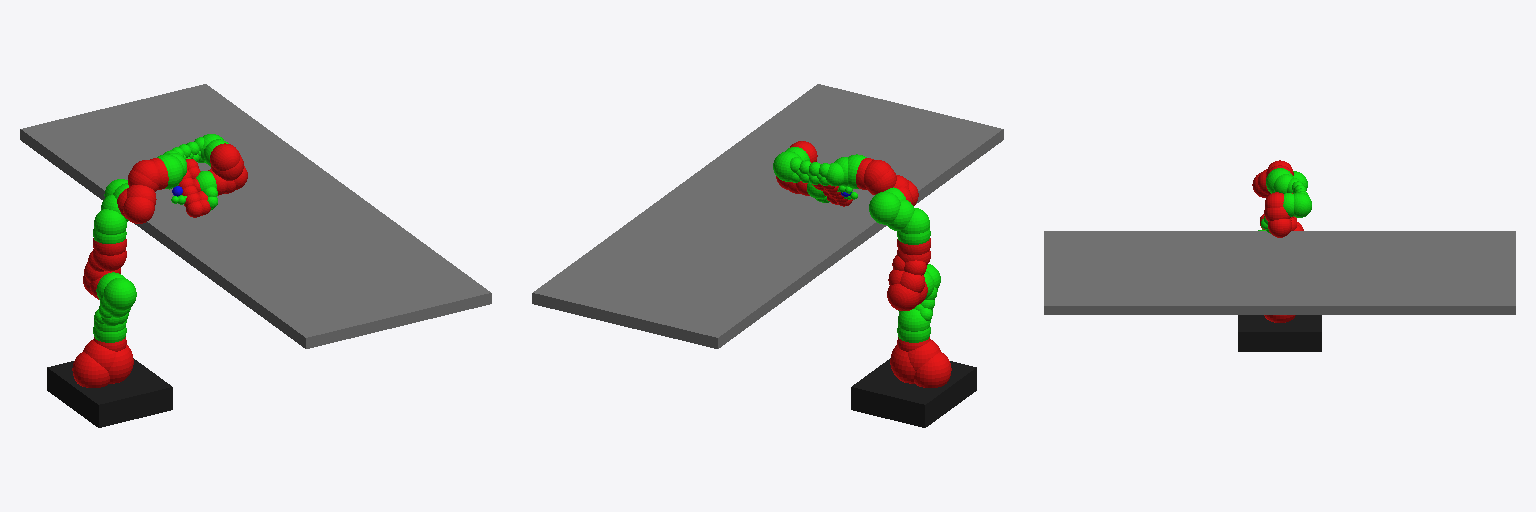
robot.urdf — panda:
<?xml version="1.0" encoding="utf-8"?>
<!-- =================================================================================== -->
<!-- |    This document was autogenerated by xacro from table_panda_arm_hand_fingers_fixed.urdf.xacro | -->
<!-- |    EDITING THIS FILE BY HAND IS NOT RECOMMENDED                                 | -->
<!-- =================================================================================== -->
<robot name="panda">
  <link name="table">
    <visual>
      <!-- <origin xyz="${tablex/2} ${tabley/2} ${-tablez/2}" rpy="0 0 0"/> -->
      <!-- <origin xyz="0.8 0.0 0.67" rpy="0 0 0"/> -->
      <origin rpy="0 0 0" xyz="0.6 0.0 0.47"/>
      <geometry>
        <box size="0.762 2.032 0.04445"/>
      </geometry>
      <material name="grey">
        <color rgba="0.5 0.5 0.5 1.0"/>
      </material>
    </visual>
    <visual>
      <!-- <origin xyz="${pandax} ${-pandamounty/2} ${-pandamountz/2+pandamountzoffset}" rpy="0 0 0"/> -->
      <!-- <origin xyz="${pandax} ${panday} ${-pandamountz+pandamountzoffset}" rpy="0 0 ${-pi/2}"/>     -->
      <origin rpy="0 0 0" xyz="0 0 -0.06604"/>
      <geometry>
        <box size="0.3048 0.36576 0.09144"/>
      </geometry>
      <material name="black">
        <color rgba="0.15 0.15 0.15 1.0"/>
      </material>
    </visual>
  </link>
  <material name="redtran">
    <color rgba=".9 .1 .1 0.3"/>
  </material>
  <material name="greentran">
    <color rgba=".1 .9 .1 0.3"/>
  </material>
  <material name="bluetran">
    <color rgba=".1 .1 .9 0.3"/>
  </material>
  <joint name="panda_joint_table" type="fixed">
    <parent link="table"/>
    <child link="panda_link0"/>
    <origin rpy="0 0 0" xyz="0 0 0"/>
  </joint>
  <link name="panda_link0">
    <visual>
      <geometry>
        <mesh filename="package://franka_description/meshes/visual/link0.dae"/>
      </geometry>
    </visual>
    <collision>
      <geometry>
        <mesh filename="package://franka_description/meshes/collision/link0.stl"/>
      </geometry>
    </collision>
    <visual>
      <origin xyz="0 0 .117"/>
      <geometry>
        <sphere radius="0.06"/>
      </geometry>
      <material name="redtran"/>
    </visual>
    <visual>
      <origin xyz="0 0 .042"/>
      <geometry>
        <sphere radius="0.085"/>
      </geometry>
      <material name="redtran"/>
    </visual>
    <visual>
      <origin xyz="-.029 0 .061"/>
      <geometry>
        <sphere radius="0.075"/>
      </geometry>
      <material name="redtran"/>
    </visual>
    <visual>
      <origin xyz="-.068 0 .024"/>
      <geometry>
        <sphere radius="0.075"/>
      </geometry>
      <material name="redtran"/>
    </visual>
  </link>
  <link name="panda_link1">
    <visual>
      <geometry>
        <mesh filename="package://franka_description/meshes/visual/link1.dae"/>
      </geometry>
    </visual>
    <collision>
      <geometry>
        <mesh filename="package://franka_description/meshes/collision/link1.stl"/>
      </geometry>
    </collision>
    <visual>
      <origin xyz="0 -.071 0"/>
      <geometry>
        <sphere radius="0.06"/>
      </geometry>
      <material name="greentran"/>
    </visual>
    <visual>
      <origin xyz="0 -.024 0"/>
      <geometry>
        <sphere radius="0.061"/>
      </geometry>
      <material name="greentran"/>
    </visual>
    <visual>
      <origin xyz="0 -.001 -.134"/>
      <geometry>
        <sphere radius="0.059"/>
      </geometry>
      <material name="greentran"/>
    </visual>
    <visual>
      <origin xyz="0 0 -.17"/>
      <geometry>
        <sphere radius="0.06"/>
      </geometry>
      <material name="greentran"/>
    </visual>
    <visual>
      <origin xyz=".015 -.048 -.032"/>
      <geometry>
        <sphere radius="0.047"/>
      </geometry>
      <material name="greentran"/>
    </visual>
    <visual>
      <origin xyz="-.015 -.048 -.032"/>
      <geometry>
        <sphere radius="0.047"/>
      </geometry>
      <material name="greentran"/>
    </visual>
    <visual>
      <origin xyz="0 -.054 -.047"/>
      <geometry>
        <sphere radius="0.047"/>
      </geometry>
      <material name="greentran"/>
    </visual>
    <visual>
      <origin xyz=".026 -.035 -.069"/>
      <geometry>
        <sphere radius="0.035"/>
      </geometry>
      <material name="greentran"/>
    </visual>
    <visual>
      <origin xyz=".036 -.011 -.103"/>
      <geometry>
        <sphere radius="0.03"/>
      </geometry>
      <material name="greentran"/>
    </visual>
    <visual>
      <origin xyz="-.026 -.035 -.069"/>
      <geometry>
        <sphere radius="0.035"/>
      </geometry>
      <material name="greentran"/>
    </visual>
    <visual>
      <origin xyz="-.036 -.011 -.103"/>
      <geometry>
        <sphere radius="0.03"/>
      </geometry>
      <material name="greentran"/>
    </visual>
    <visual>
      <origin xyz=".011 -.028 -.093"/>
      <geometry>
        <sphere radius="0.044"/>
      </geometry>
      <material name="greentran"/>
    </visual>
    <visual>
      <origin xyz="-.011 -.028 -.093"/>
      <geometry>
        <sphere radius="0.044"/>
      </geometry>
      <material name="greentran"/>
    </visual>
  </link>
  <joint name="panda_joint1" type="revolute">
    <safety_controller k_position="100.0" k_velocity="40.0" soft_lower_limit="-2.8973" soft_upper_limit="2.8973"/>
    <origin rpy="0 0 0" xyz="0 0 0.333"/>
    <parent link="panda_link0"/>
    <child link="panda_link1"/>
    <axis xyz="0 0 1"/>
    <limit effort="87" lower="-2.8973" upper="2.8973" velocity="2.1750"/>
  </joint>
  <link name="panda_link2">
    <visual>
      <geometry>
        <mesh filename="package://franka_description/meshes/visual/link2.dae"/>
      </geometry>
    </visual>
    <collision>
      <geometry>
        <mesh filename="package://franka_description/meshes/collision/link2.stl"/>
      </geometry>
    </collision>
    <visual>
      <origin xyz="0 -.128 .001"/>
      <geometry>
        <sphere radius="0.061"/>
      </geometry>
      <material name="redtran"/>
    </visual>
    <visual>
      <origin xyz="0 0 .023"/>
      <geometry>
        <sphere radius="0.061"/>
      </geometry>
      <material name="redtran"/>
    </visual>
    <visual>
      <origin xyz="-.016 -.045 .051"/>
      <geometry>
        <sphere radius="0.052"/>
      </geometry>
      <material name="redtran"/>
    </visual>
    <visual>
      <origin xyz=".021 -.097 .032"/>
      <geometry>
        <sphere radius="0.043"/>
      </geometry>
      <material name="redtran"/>
    </visual>
    <visual>
      <origin xyz="0 0 .07"/>
      <geometry>
        <sphere radius="0.061"/>
      </geometry>
      <material name="redtran"/>
    </visual>
    <visual>
      <origin xyz="0 -.173 0"/>
      <geometry>
        <sphere radius="0.061"/>
      </geometry>
      <material name="redtran"/>
    </visual>
    <visual>
      <origin xyz=".016 -.045 .051"/>
      <geometry>
        <sphere radius="0.052"/>
      </geometry>
      <material name="redtran"/>
    </visual>
    <visual>
      <origin xyz="-.021 -.097 .032"/>
      <geometry>
        <sphere radius="0.043"/>
      </geometry>
      <material name="redtran"/>
    </visual>
  </link>
  <joint name="panda_joint2" type="revolute">
    <safety_controller k_position="100.0" k_velocity="40.0" soft_lower_limit="-1.7628" soft_upper_limit="1.7628"/>
    <origin rpy="-1.57079632679 0 0" xyz="0 0 0"/>
    <parent link="panda_link1"/>
    <child link="panda_link2"/>
    <axis xyz="0 0 1"/>
    <limit effort="87" lower="-1.7628" upper="1.7628" velocity="2.1750"/>
  </joint>
  <link name="panda_link3">
    <visual>
      <geometry>
        <mesh filename="package://franka_description/meshes/visual/link3.dae"/>
      </geometry>
    </visual>
    <collision>
      <geometry>
        <mesh filename="package://franka_description/meshes/collision/link3.stl"/>
      </geometry>
    </collision>
    <visual>
      <origin xyz=".045 .026 -.032"/>
      <geometry>
        <sphere radius="0.059"/>
      </geometry>
      <material name="greentran"/>
    </visual>
    <visual>
      <origin xyz=".084 .017 -.001"/>
      <geometry>
        <sphere radius="0.06"/>
      </geometry>
      <material name="greentran"/>
    </visual>
    <visual>
      <origin xyz=".081 .062 0"/>
      <geometry>
        <sphere radius="0.059"/>
      </geometry>
      <material name="greentran"/>
    </visual>
    <visual>
      <origin xyz="0 .001 -.105"/>
      <geometry>
        <sphere radius="0.06"/>
      </geometry>
      <material name="greentran"/>
    </visual>
    <visual>
      <origin xyz=".002 0 -.069"/>
      <geometry>
        <sphere radius="0.059"/>
      </geometry>
      <material name="greentran"/>
    </visual>
  </link>
  <joint name="panda_joint3" type="revolute">
    <safety_controller k_position="100.0" k_velocity="40.0" soft_lower_limit="-2.8973" soft_upper_limit="2.8973"/>
    <origin rpy="1.57079632679 0 0" xyz="0 -0.316 0"/>
    <parent link="panda_link2"/>
    <child link="panda_link3"/>
    <axis xyz="0 0 1"/>
    <limit effort="87" lower="-2.8973" upper="2.8973" velocity="2.1750"/>
  </joint>
  <link name="panda_link4">
    <visual>
      <geometry>
        <mesh filename="package://franka_description/meshes/visual/link4.dae"/>
      </geometry>
    </visual>
    <collision>
      <geometry>
        <mesh filename="package://franka_description/meshes/collision/link4.stl"/>
      </geometry>
    </collision>
    <visual>
      <origin xyz="0 0 .062"/>
      <geometry>
        <sphere radius="0.057"/>
      </geometry>
      <material name="redtran"/>
    </visual>
    <visual>
      <origin xyz="0 0 .018"/>
      <geometry>
        <sphere radius="0.059"/>
      </geometry>
      <material name="redtran"/>
    </visual>
    <visual>
      <origin xyz="-.022 .019 .04"/>
      <geometry>
        <sphere radius="0.058"/>
      </geometry>
      <material name="redtran"/>
    </visual>
    <visual>
      <origin xyz="-.082 .111 0"/>
      <geometry>
        <sphere radius="0.058"/>
      </geometry>
      <material name="redtran"/>
    </visual>
    <visual>
      <origin xyz="-.084 .069 0"/>
      <geometry>
        <sphere radius="0.059"/>
      </geometry>
      <material name="redtran"/>
    </visual>
    <visual>
      <origin xyz="-.071 .057 .002"/>
      <geometry>
        <sphere radius="0.059"/>
      </geometry>
      <material name="redtran"/>
    </visual>
  </link>
  <joint name="panda_joint4" type="revolute">
    <safety_controller k_position="100.0" k_velocity="40.0" soft_lower_limit="-3.0718" soft_upper_limit="-0.0698"/>
    <origin rpy="1.57079632679 0 0" xyz="0.0825 0 0"/>
    <parent link="panda_link3"/>
    <child link="panda_link4"/>
    <axis xyz="0 0 1"/>
    <limit effort="87" lower="-3.0718" upper="-0.0698" velocity="2.1750"/>
  </joint>
  <link name="panda_link5">
    <visual>
      <geometry>
        <mesh filename="package://franka_description/meshes/visual/link5.dae"/>
      </geometry>
    </visual>
    <collision>
      <geometry>
        <mesh filename="package://franka_description/meshes/collision/link5.stl"/>
      </geometry>
    </collision>
    <visual>
      <origin xyz="0 .021 -.197"/>
      <geometry>
        <sphere radius="0.053"/>
      </geometry>
      <material name="greentran"/>
    </visual>
    <visual>
      <origin xyz="-.018 .096 -.036"/>
      <geometry>
        <sphere radius="0.03"/>
      </geometry>
      <material name="greentran"/>
    </visual>
    <visual>
      <origin xyz="0 .085 0"/>
      <geometry>
        <sphere radius="0.055"/>
      </geometry>
      <material name="greentran"/>
    </visual>
    <visual>
      <origin xyz=".018 .096 -.036"/>
      <geometry>
        <sphere radius="0.03"/>
      </geometry>
      <material name="greentran"/>
    </visual>
    <visual>
      <origin xyz="0 .037 0"/>
      <geometry>
        <sphere radius="0.053"/>
      </geometry>
      <material name="greentran"/>
    </visual>
    <visual>
      <origin xyz="0 .001 -.233"/>
      <geometry>
        <sphere radius="0.062"/>
      </geometry>
      <material name="greentran"/>
    </visual>
    <visual>
      <origin xyz="0 .059 -.178"/>
      <geometry>
        <sphere radius="0.043"/>
      </geometry>
      <material name="greentran"/>
    </visual>
    <visual>
      <origin xyz=".015 .077 -.147"/>
      <geometry>
        <sphere radius="0.027"/>
      </geometry>
      <material name="greentran"/>
    </visual>
    <visual>
      <origin xyz="-.015 .091 -.076"/>
      <geometry>
        <sphere radius="0.027"/>
      </geometry>
      <material name="greentran"/>
    </visual>
    <visual>
      <origin xyz="0 .094 -.053"/>
      <geometry>
        <sphere radius="0.024"/>
      </geometry>
      <material name="greentran"/>
    </visual>
    <visual>
      <origin xyz=".015 .087 -.112"/>
      <geometry>
        <sphere radius="0.027"/>
      </geometry>
      <material name="greentran"/>
    </visual>
    <visual>
      <origin xyz="-.015 .087 -.112"/>
      <geometry>
        <sphere radius="0.027"/>
      </geometry>
      <material name="greentran"/>
    </visual>
    <visual>
      <origin xyz=".015 .091 -.076"/>
      <geometry>
        <sphere radius="0.027"/>
      </geometry>
      <material name="greentran"/>
    </visual>
    <visual>
      <origin xyz="-.015 .077 -.147"/>
      <geometry>
        <sphere radius="0.027"/>
      </geometry>
      <material name="greentran"/>
    </visual>
    <visual>
      <origin xyz="0 .081 -.132"/>
      <geometry>
        <sphere radius="0.024"/>
      </geometry>
      <material name="greentran"/>
    </visual>
    <visual>
      <origin xyz="0 .087 -.092"/>
      <geometry>
        <sphere radius="0.022"/>
      </geometry>
      <material name="greentran"/>
    </visual>
  </link>
  <joint name="panda_joint5" type="revolute">
    <safety_controller k_position="100.0" k_velocity="40.0" soft_lower_limit="-2.8973" soft_upper_limit="2.8973"/>
    <origin rpy="-1.57079632679 0 0" xyz="-0.0825 0.384 0"/>
    <parent link="panda_link4"/>
    <child link="panda_link5"/>
    <axis xyz="0 0 1"/>
    <limit effort="12" lower="-2.8973" upper="2.8973" velocity="2.6100"/>
  </joint>
  <link name="panda_link6">
    <visual>
      <geometry>
        <mesh filename="package://franka_description/meshes/visual/link6.dae"/>
      </geometry>
    </visual>
    <collision>
      <geometry>
        <mesh filename="package://franka_description/meshes/collision/link6.stl"/>
      </geometry>
    </collision>
    <visual>
      <origin xyz=".087 -.03 .0"/>
      <geometry>
        <sphere radius="0.05"/>
      </geometry>
      <material name="redtran"/>
    </visual>
    <visual>
      <origin xyz=".028 .011 .009"/>
      <geometry>
        <sphere radius="0.059"/>
      </geometry>
      <material name="redtran"/>
    </visual>
    <visual>
      <origin xyz="-.001 0 .012"/>
      <geometry>
        <sphere radius="0.055"/>
      </geometry>
      <material name="redtran"/>
    </visual>
    <visual>
      <origin xyz=".079 .04 0"/>
      <geometry>
        <sphere radius="0.052"/>
      </geometry>
      <material name="redtran"/>
    </visual>
    <visual>
      <origin xyz=".09 .01 .0"/>
      <geometry>
        <sphere radius="0.049"/>
      </geometry>
      <material name="redtran"/>
    </visual>
  </link>
  <joint name="panda_joint6" type="revolute">
    <safety_controller k_position="100.0" k_velocity="40.0" soft_lower_limit="-0.0175" soft_upper_limit="3.7525"/>
    <origin rpy="1.57079632679 0 0" xyz="0 0 0"/>
    <parent link="panda_link5"/>
    <child link="panda_link6"/>
    <axis xyz="0 0 1"/>
    <limit effort="12" lower="-0.0175" upper="3.7525" velocity="2.6100"/>
  </joint>
  <link name="panda_link7">
    <visual>
      <geometry>
        <mesh filename="package://franka_description/meshes/visual/link7.dae"/>
      </geometry>
    </visual>
    <collision>
      <geometry>
        <mesh filename="package://franka_description/meshes/collision/link7.stl"/>
      </geometry>
    </collision>
    <visual>
      <origin xyz=".0 .0 .075"/>
      <geometry>
        <sphere radius="0.05"/>
      </geometry>
      <material name="greentran"/>
    </visual>
    <visual>
      <origin xyz=".016 .042 .079"/>
      <geometry>
        <sphere radius="0.028"/>
      </geometry>
      <material name="greentran"/>
    </visual>
    <visual>
      <origin xyz=".041 .012 .079"/>
      <geometry>
        <sphere radius="0.028"/>
      </geometry>
      <material name="greentran"/>
    </visual>
    <visual>
      <origin xyz=".04 .058 .085"/>
      <geometry>
        <sphere radius="0.026"/>
      </geometry>
      <material name="greentran"/>
    </visual>
    <visual>
      <origin xyz=".058 .037 .083"/>
      <geometry>
        <sphere radius="0.026"/>
      </geometry>
      <material name="greentran"/>
    </visual>
  </link>
  <joint name="panda_joint7" type="revolute">
    <safety_controller k_position="100.0" k_velocity="40.0" soft_lower_limit="-2.8973" soft_upper_limit="2.8973"/>
    <origin rpy="1.57079632679 0 0" xyz="0.088 0 0"/>
    <parent link="panda_link6"/>
    <child link="panda_link7"/>
    <axis xyz="0 0 1"/>
    <limit effort="12" lower="-2.8973" upper="2.8973" velocity="2.6100"/>
  </joint>
  <link name="panda_link8"/>
  <joint name="panda_joint8" type="fixed">
    <origin rpy="0 0 0" xyz="0 0 0.107"/>
    <parent link="panda_link7"/>
    <child link="panda_link8"/>
    <axis xyz="0 0 0"/>
  </joint>
  <joint name="panda_hand_joint" type="fixed">
    <parent link="panda_link8"/>
    <child link="panda_hand"/>
    <origin rpy="0 0 -0.785398163397" xyz="0 0 0"/>
  </joint>
  <link name="panda_hand">
    <visual>
      <geometry>
        <mesh filename="package://franka_description/meshes/visual/hand.dae"/>
      </geometry>
    </visual>
    <visual>
      <origin xyz="0 -.077 .041"/>
      <geometry>
        <sphere radius="0.033"/>
      </geometry>
      <material name="redtran"/>
    </visual>
    <visual>
      <origin xyz="0 .075 .012"/>
      <geometry>
        <sphere radius="0.033"/>
      </geometry>
      <material name="redtran"/>
    </visual>
    <visual>
      <origin xyz="0 .077 .041"/>
      <geometry>
        <sphere radius="0.033"/>
      </geometry>
      <material name="redtran"/>
    </visual>
    <visual>
      <origin xyz="0 -.05 .002"/>
      <geometry>
        <sphere radius="0.033"/>
      </geometry>
      <material name="redtran"/>
    </visual>
    <visual>
      <origin xyz="0 -.046 .041"/>
      <geometry>
        <sphere radius="0.033"/>
      </geometry>
      <material name="redtran"/>
    </visual>
    <visual>
      <origin xyz="0 .046 .041"/>
      <geometry>
        <sphere radius="0.033"/>
      </geometry>
      <material name="redtran"/>
    </visual>
    <visual>
      <origin xyz="0 .016 .041"/>
      <geometry>
        <sphere radius="0.033"/>
      </geometry>
      <material name="redtran"/>
    </visual>
    <visual>
      <origin xyz="0 -.016 .041"/>
      <geometry>
        <sphere radius="0.033"/>
      </geometry>
      <material name="redtran"/>
    </visual>
    <visual>
      <origin xyz="0 -.075 .002"/>
      <geometry>
        <sphere radius="0.033"/>
      </geometry>
      <material name="redtran"/>
    </visual>
    <visual>
      <origin xyz="0 .051 .003"/>
      <geometry>
        <sphere radius="0.033"/>
      </geometry>
      <material name="redtran"/>
    </visual>
    <visual>
      <origin xyz="0 0 .003"/>
      <geometry>
        <sphere radius="0.033"/>
      </geometry>
      <material name="redtran"/>
    </visual>
  </link>
  <link name="panda_leftfinger">
    <visual>
      <geometry>
        <mesh filename="package://franka_description/meshes/visual/finger.dae"/>
      </geometry>
    </visual>
    <visual>
      <origin xyz="0 .014 .022"/>
      <geometry>
        <sphere radius="0.017"/>
      </geometry>
      <material name="greentran"/>
    </visual>
    <visual>
      <origin xyz="0 .015 .005"/>
      <geometry>
        <sphere radius="0.018"/>
      </geometry>
      <material name="greentran"/>
    </visual>
    <visual>
      <origin xyz="0 .008 .044"/>
      <geometry>
        <sphere radius="0.014"/>
      </geometry>
      <material name="greentran"/>
    </visual>
  </link>
  <link name="panda_rightfinger">
    <visual>
      <origin rpy="0 0 3.14159265359" xyz="0 0 0"/>
      <geometry>
        <mesh filename="package://franka_description/meshes/visual/finger.dae"/>
      </geometry>
    </visual>
    <visual>
      <origin xyz="0 -.014 .022"/>
      <geometry>
        <sphere radius="0.017"/>
      </geometry>
      <material name="greentran"/>
    </visual>
    <visual>
      <origin xyz="0 -.015 .005"/>
      <geometry>
        <sphere radius="0.018"/>
      </geometry>
      <material name="greentran"/>
    </visual>
    <visual>
      <origin xyz="0 -.008 .044"/>
      <geometry>
        <sphere radius="0.014"/>
      </geometry>
      <material name="greentran"/>
    </visual>
  </link>
  <link name="panda_hand_center">
    <visual>
      <origin xyz="0 0 0"/>
      <geometry>
        <sphere radius="0.02"/>
      </geometry>
      <material name="bluetran"/>
    </visual>
  </link>
  <joint name="panda_finger_joint1" type="fixed">
    <parent link="panda_hand"/>
    <child link="panda_leftfinger"/>
    <origin rpy="0 0 0" xyz="0 0.02 0.0584"/>
  </joint>
  <joint name="panda_finger_joint2" type="fixed">
    <parent link="panda_hand"/>
    <child link="panda_rightfinger"/>
    <origin rpy="0 0 0" xyz="0 -0.02 0.0584"/>
    <mimic joint="panda_finger_joint1"/>
  </joint>
  <joint name="panda_hand_center_joint" type="fixed">
    <parent link="panda_hand"/>
    <child link="panda_hand_center"/>
    <origin rpy="0 0 0" xyz="0 0 0.08"/>
  </joint>
</robot>

--- Render facts (derived) ---
3 views of the same robot in one strip: view 1: azimuth 30°, elevation 25°; view 2: azimuth 150°, elevation 25°; view 3: azimuth 270°, elevation 25° (orthographic).
Robot: panda — 14 links, 13 joints (7 revolute, 6 fixed); root link table; default pose: joints at zero except 1 at the middle of their limits (panda_joint4 = -1.57).
Visible links, largest first — view 1: table, panda_link0, panda_link1, panda_link4, panda_link3, panda_link5, panda_link6, panda_link2, panda_hand; view 2: table, panda_link5, panda_link2, panda_link0, panda_link3, panda_link1, panda_link4, panda_link6; view 3: table, panda_link5, panda_link6.
Link boxes in pixels (x1,y1,x2,y2): table: [20, 84, 491, 427]; panda_link0: [72, 337, 133, 387]; panda_link1: [93, 272, 136, 342]; panda_link4: [117, 158, 168, 223]; panda_link3: [93, 179, 128, 243]; panda_link5: [157, 134, 228, 188]; panda_link6: [208, 143, 247, 195]; panda_link2: [83, 238, 126, 299]; panda_hand: [178, 159, 210, 217]; table: [532, 84, 1003, 427]; panda_link5: [773, 147, 866, 188]; panda_link2: [887, 238, 930, 310]; panda_link0: [890, 337, 951, 387]; panda_link3: [869, 187, 930, 244]; panda_link1: [897, 264, 940, 342]; panda_link4: [856, 158, 918, 205]; panda_link6: [776, 141, 817, 195]; table: [1044, 231, 1515, 351]; panda_link5: [1266, 168, 1311, 217]; panda_link6: [1264, 192, 1291, 237].
Bounding box of the posed robot: 1.13 × 2.03 × 0.9053 m (x, y, z).
0 mesh visuals loaded from 10 distinct referenced files (none loaded); not drawn: 11 (reference not matched to a file when rendering).
